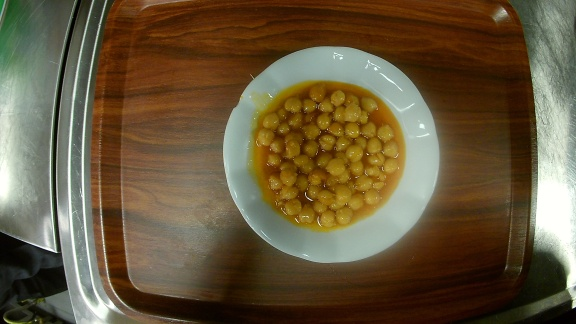sulunohut: (223, 44, 442, 264)
